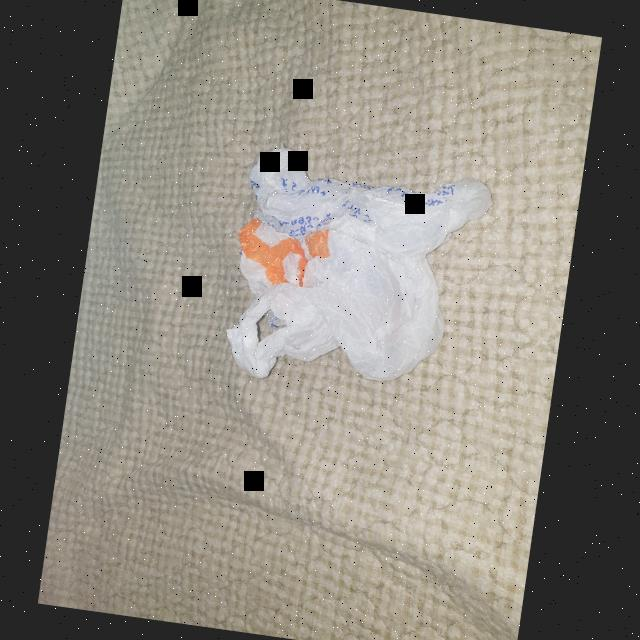plastic_bag: (214, 137, 498, 414)
